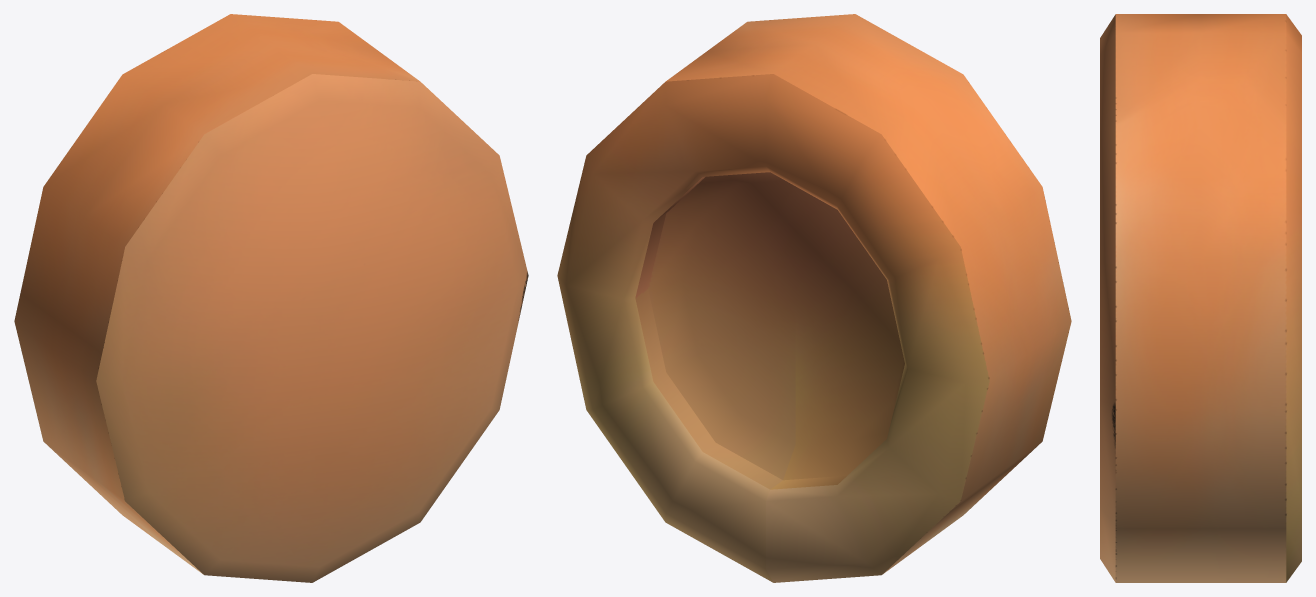
Rendered from coin.fbx.
3 renders of one model, left to right at view 1: azimuth 30°, elevation 25°; view 2: azimuth 150°, elevation 25°; view 3: azimuth 270°, elevation 25°, orthographic. The views are drawn at different scales.
Parts seen in each view (by area): view 1: coin; view 2: coin; view 3: coin.
Boxes of the visible parts, left/top/right/bottom form: coin: left=14, top=14, right=528, bottom=582; coin: left=557, top=14, right=1071, bottom=582; coin: left=1100, top=14, right=1301, bottom=582.
Size of the model in its own units: 139 by 157 by 54.
Materials: 1 (1 with a texture image).
